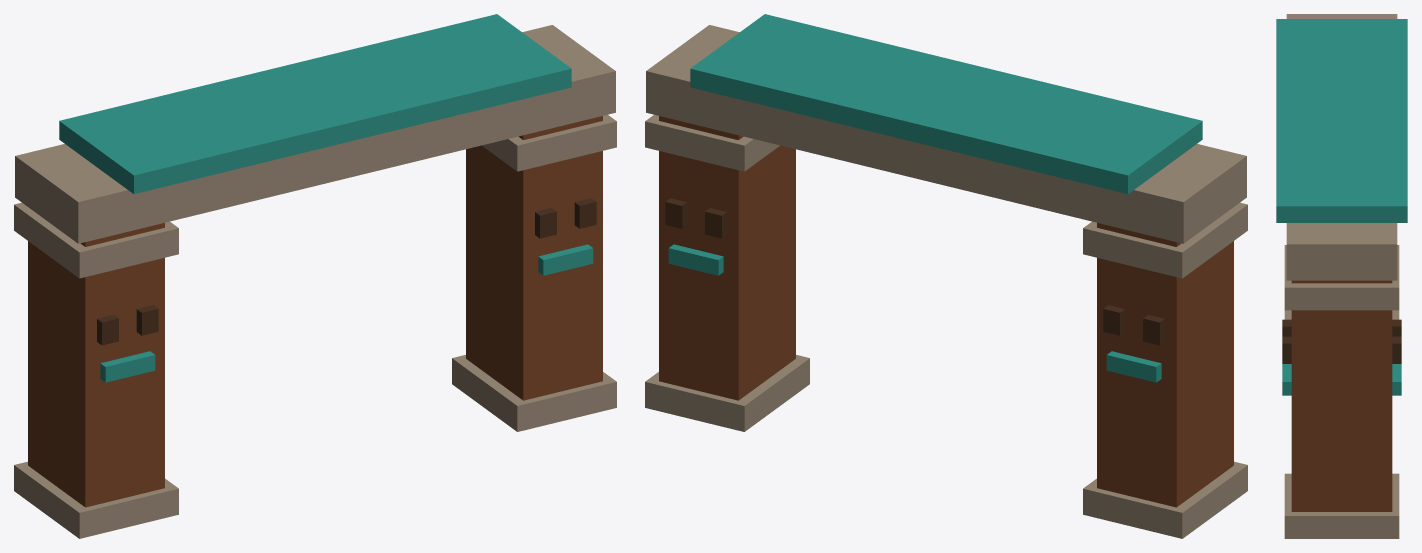
The model's file is Tropical_TikiGate_Simple.glb.
3 views of the same model, side by side, from view 1: azimuth 30°, elevation 25°; view 2: azimuth 150°, elevation 25°; view 3: azimuth 270°, elevation 25° (orthographic). The views are drawn at different scales.
Parts seen in each view (by area): view 1: Tropical_TikiGate_Simple; view 2: Tropical_TikiGate_Simple; view 3: Tropical_TikiGate_Simple.
Boxes of the visible parts, x1,y1,x2,y2 form: Tropical_TikiGate_Simple: [14, 14, 616, 538]; Tropical_TikiGate_Simple: [645, 14, 1247, 538]; Tropical_TikiGate_Simple: [1276, 14, 1407, 538].
Size of the model in its own units: 5.4 by 3.43 by 1.3.
